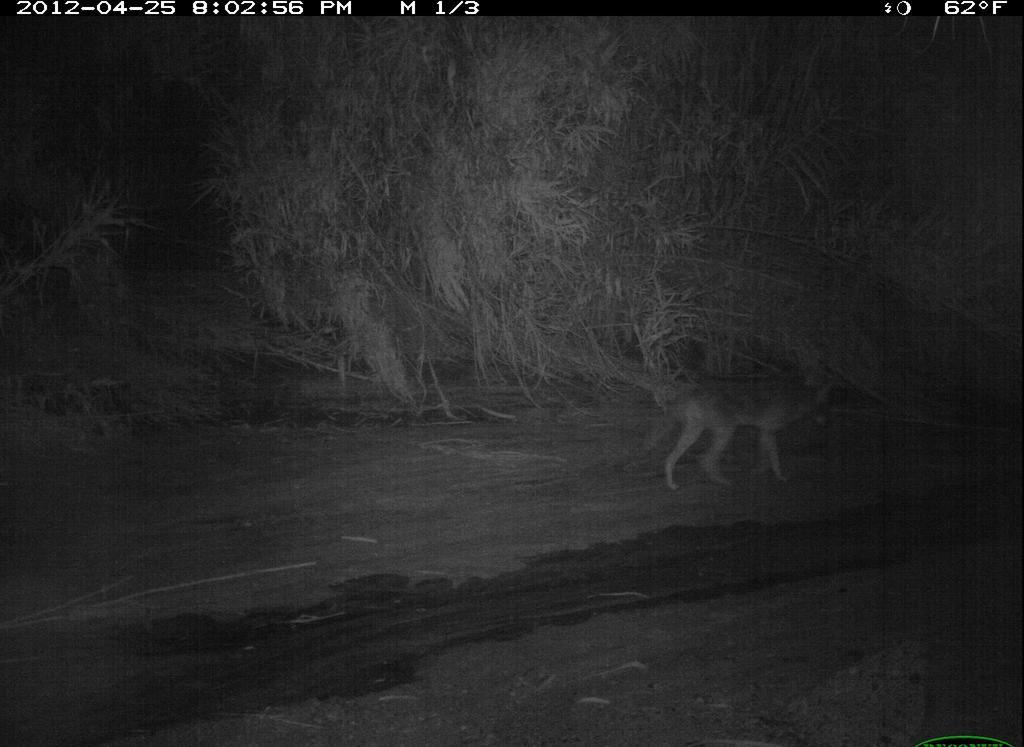coyote: (614, 360, 866, 495)
